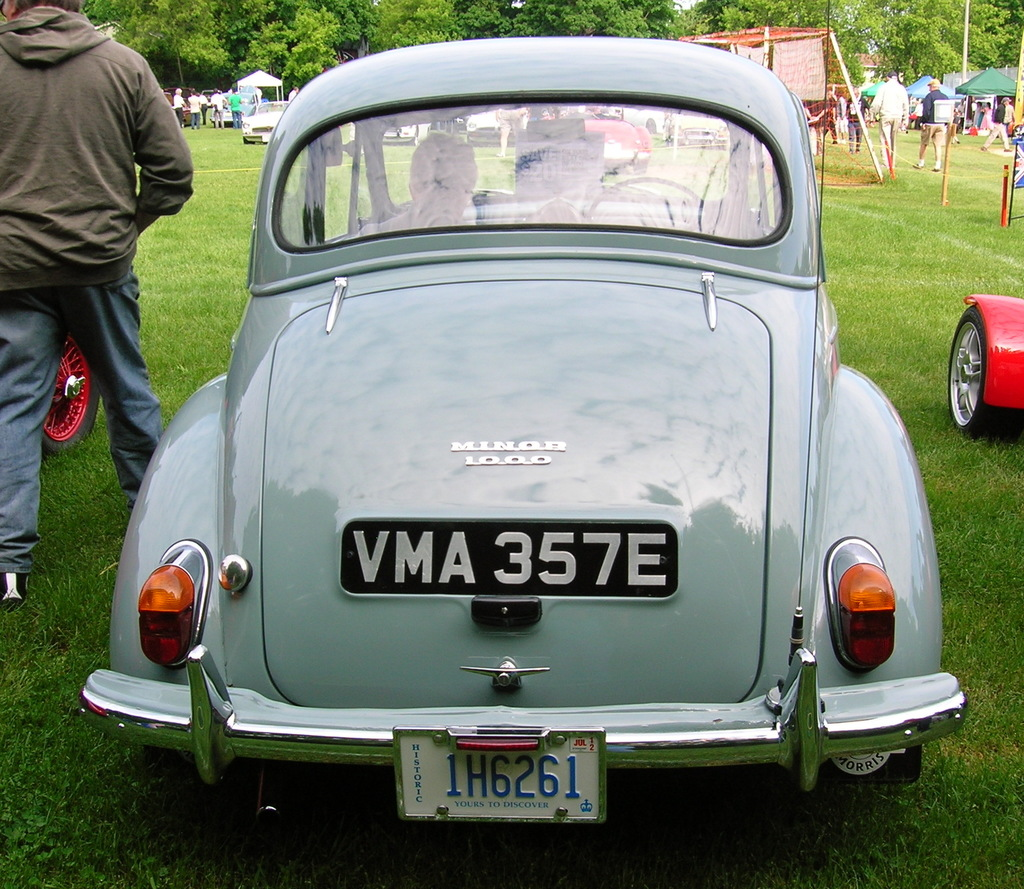Car: (76, 47, 943, 853), (538, 114, 648, 174), (465, 102, 520, 149), (240, 102, 287, 146), (380, 125, 432, 145)
